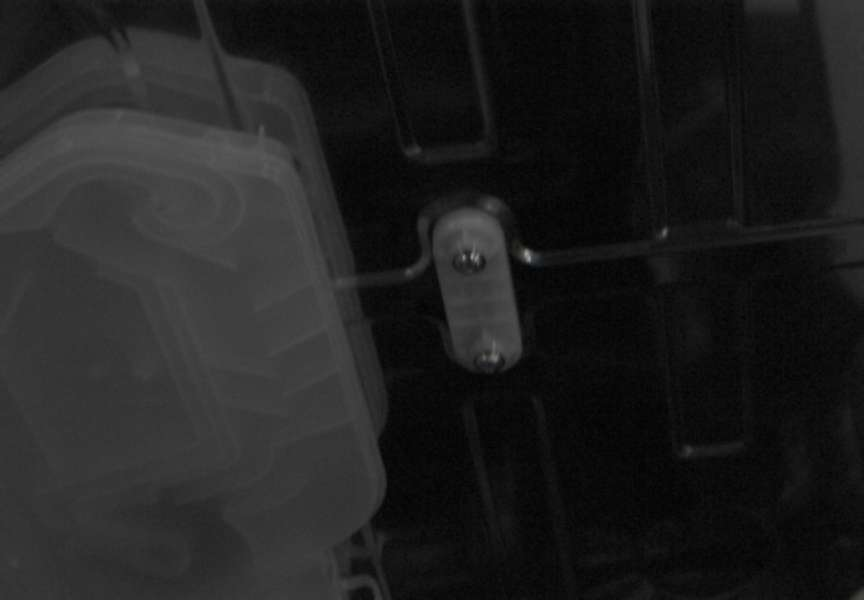screw: (452, 248, 486, 275), (474, 349, 506, 374)
